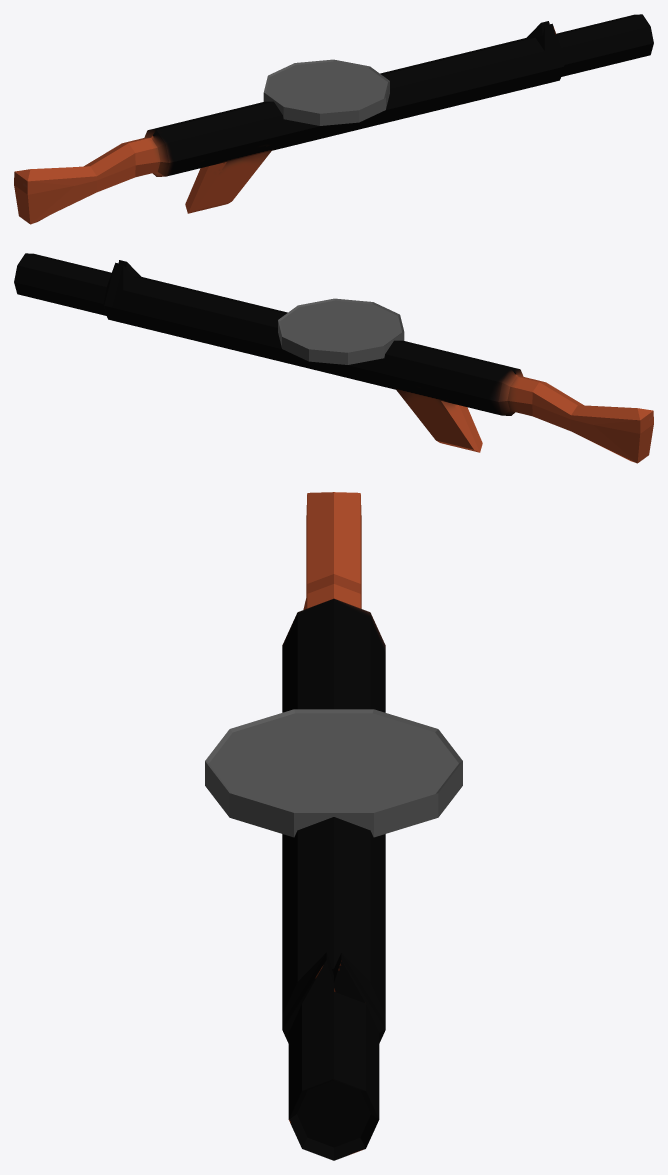
File: low_poly_lewis_gun.glb
3 renders of one model, top to bottom at view 1: azimuth 30°, elevation 25°; view 2: azimuth 150°, elevation 25°; view 3: azimuth 270°, elevation 25°, orthographic. The views are drawn at different scales.
Parts seen in each view (by area): view 1: Cylinder, Cylinder.001; view 2: Cylinder, Cylinder.001; view 3: Cylinder, Cylinder.001.
Part boxes in pixels (x1,y1,x2,y2): Cylinder: (14, 14, 653, 224); Cylinder.001: (263, 59, 389, 125); Cylinder: (14, 253, 653, 463); Cylinder.001: (278, 298, 404, 364); Cylinder: (282, 492, 385, 1160); Cylinder.001: (205, 709, 462, 837).
Bounding box in the file's own units: 27.82 × 4.4 × 5.
2 materials, 2 textured.
